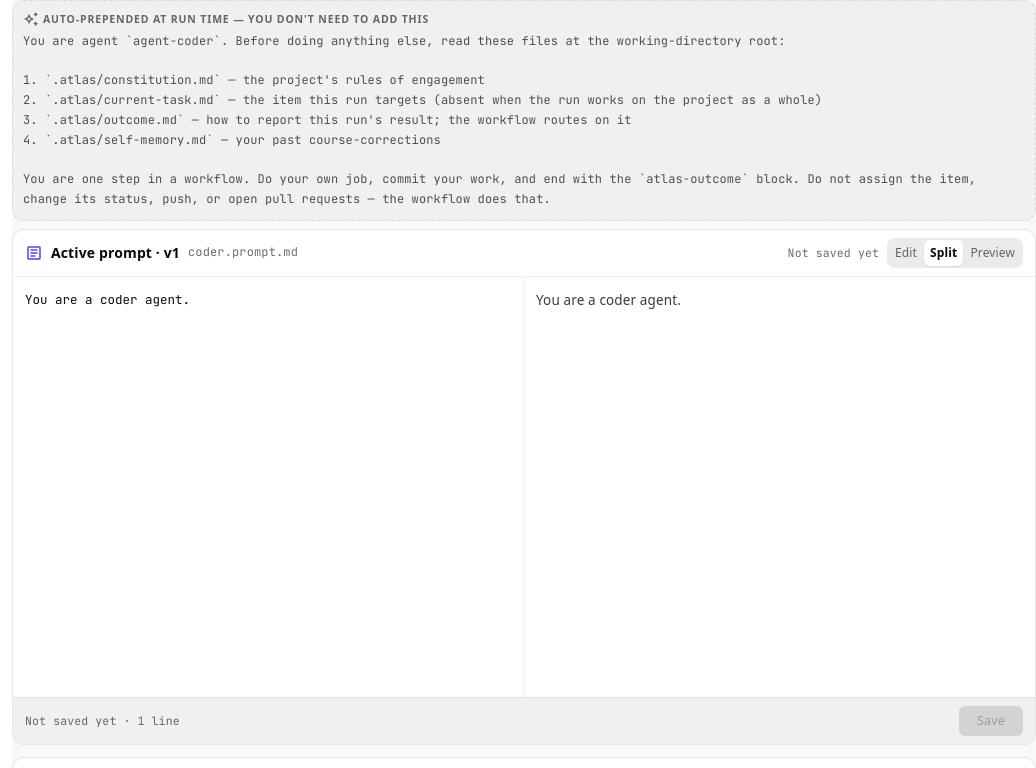
PromptTabContent › typing in textarea makes Save button enabled
The width and height of the screenshot is (1036, 768).
Expected: the text "Active prompt · v1" is shown, [51, 242, 180, 264]
Expected: the button "Save" is disabled, [959, 706, 1023, 736]
Type " extra text" into the text box.
click(268, 487); type(" extra text")  # box [13, 277, 523, 697]
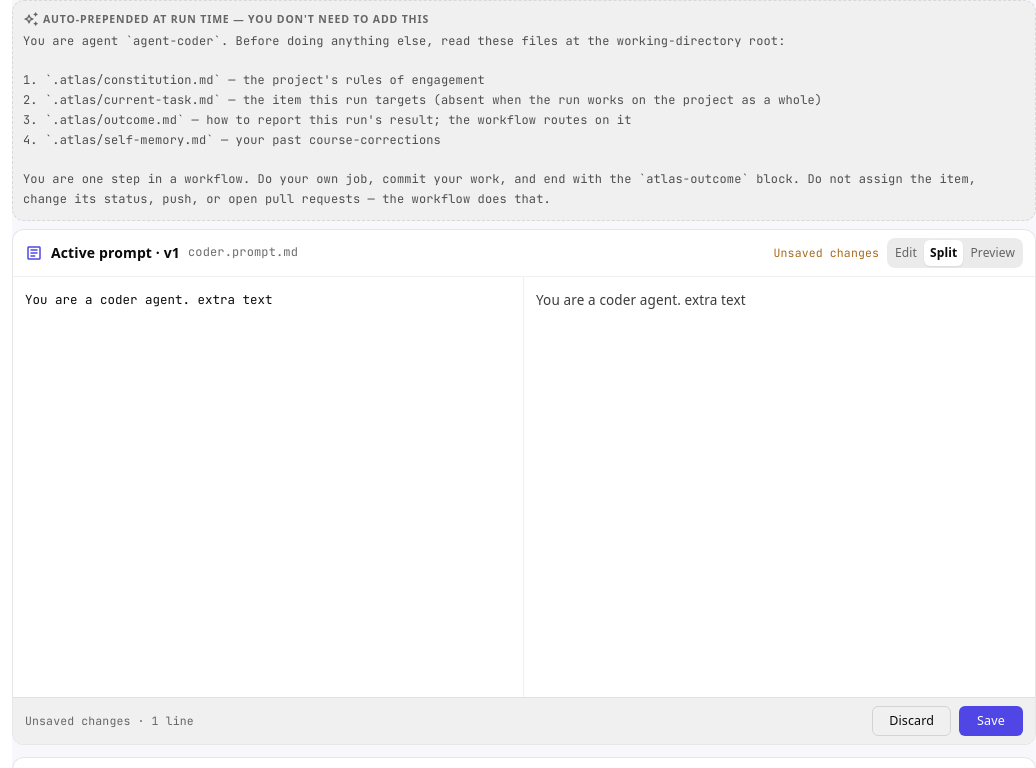
Expected: the button "Save" is enabled, [959, 706, 1023, 736]
